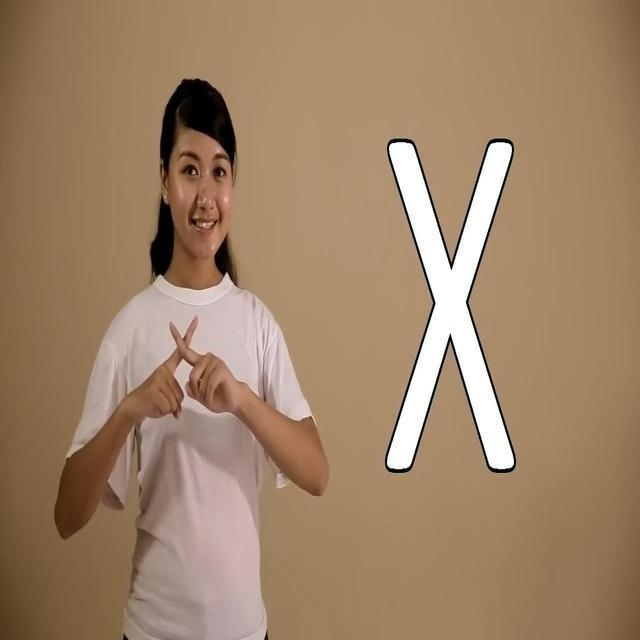X: (133, 306, 235, 422)
